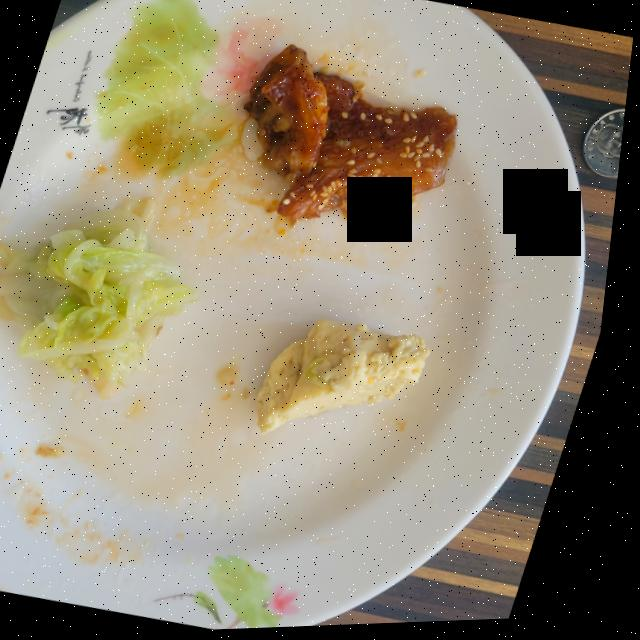Kabayaki sea bream fillet: (251, 49, 460, 222)
cabbage: (0, 210, 204, 398)
coin: (586, 113, 628, 183)
